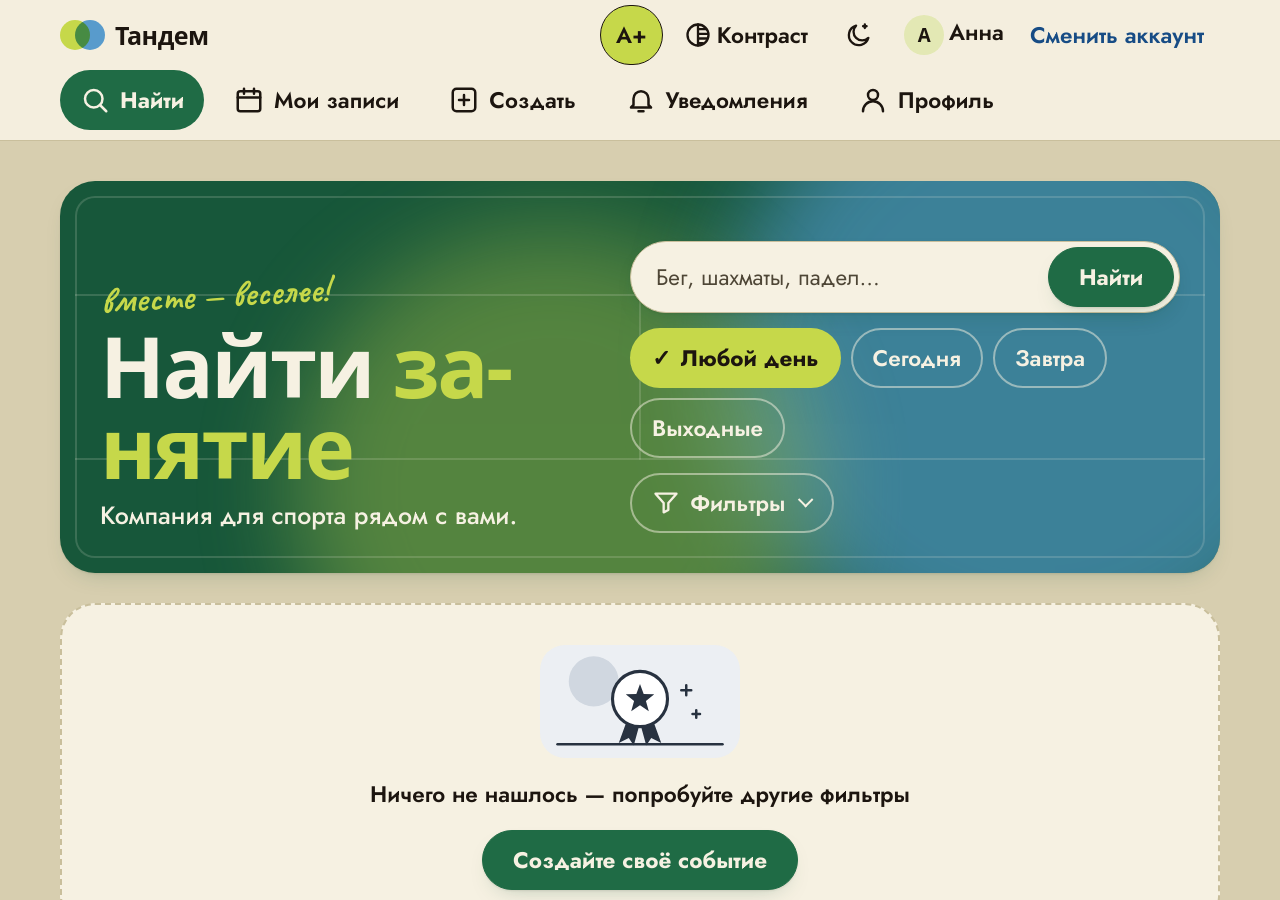
переключатели «Крупный текст» и «Высокий контраст» › сбой сохранения в аккаунт не откатывает выбор
Step 1. Click the button named "Крупный текст" → [631, 35], box [600,5,663,65]
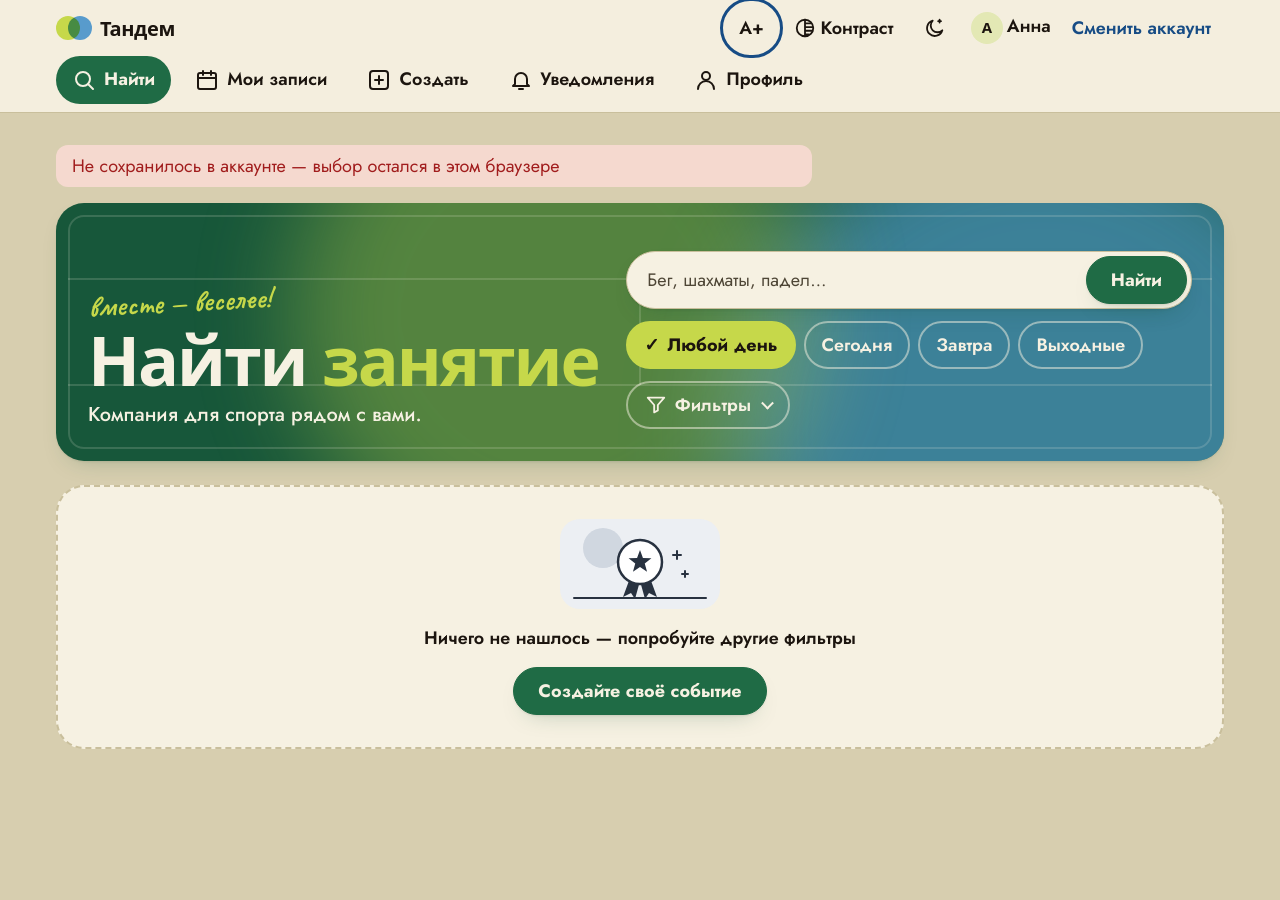
Expected: the message reads "Не сохранилось в аккаунте — выбор остался в этом браузере", [72,153,560,179]
